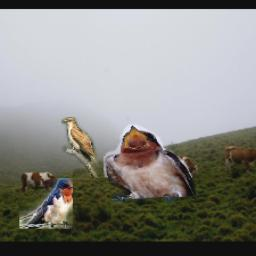Cuckoo: (61, 118, 105, 179)
Swallow: (105, 124, 197, 202), (20, 178, 74, 229)
